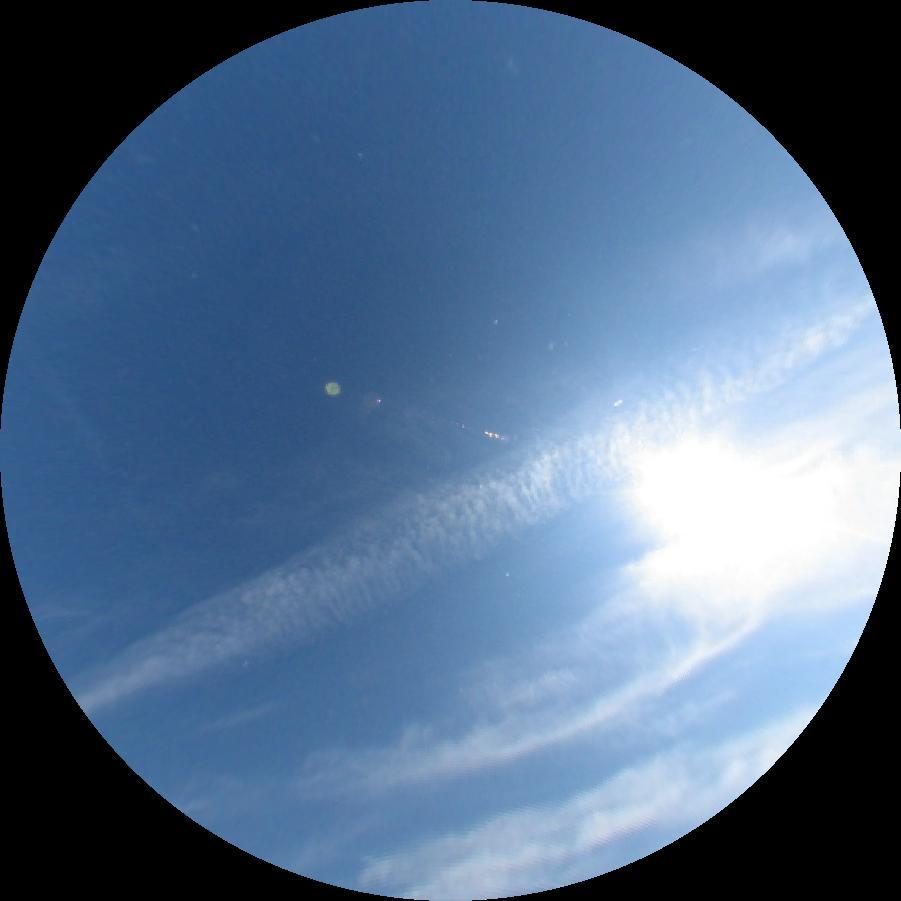contrail veryold: (61, 257, 899, 751)
contrail young: (360, 854, 384, 866)
sun: (649, 438, 779, 554)
